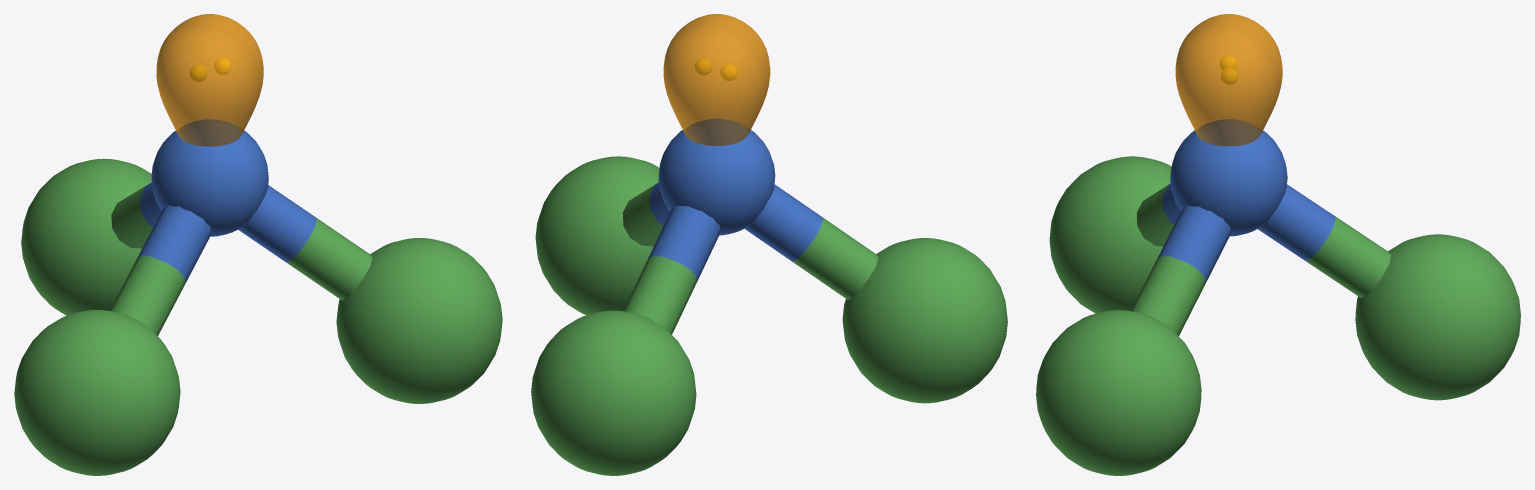
3 renders of one model, left to right at view 1: azimuth 30°, elevation 25°; view 2: azimuth 150°, elevation 25°; view 3: azimuth 270°, elevation 25°, orthographic.
Visible parts, largest first — view 1: 对象006; view 2: 对象006; view 3: 对象006.
Boxes of the visible parts, x1,y1,x2,y2 form: 对象006: (14,14,502,475); 对象006: (531,14,1007,475); 对象006: (1036,14,1520,475).
Bounding box in the file's own units: 63.06 × 49.31 × 57.78.
